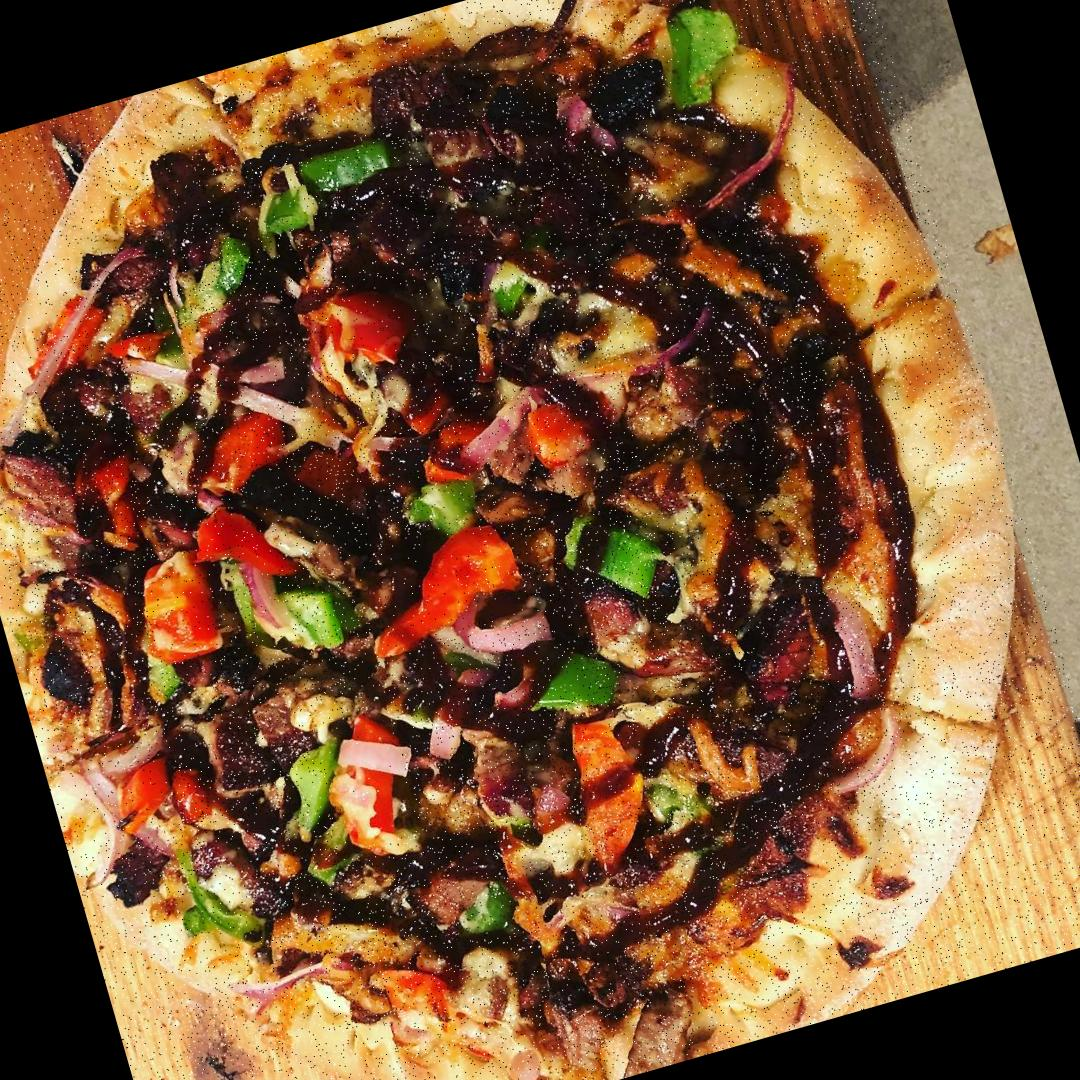Onion: (53, 762, 132, 903), (4, 447, 89, 574), (810, 704, 914, 801), (448, 383, 556, 468), (571, 329, 715, 390), (820, 581, 886, 702), (690, 132, 792, 208), (210, 342, 302, 418), (223, 951, 338, 1010), (551, 80, 622, 166), (241, 552, 298, 652), (760, 60, 815, 148), (468, 610, 558, 660), (126, 344, 188, 397), (423, 716, 469, 766)
Peppers: (353, 520, 528, 658), (563, 708, 664, 870), (314, 707, 420, 850), (551, 498, 668, 616), (648, 0, 756, 118), (191, 494, 300, 596), (172, 835, 264, 952), (136, 551, 228, 666), (11, 292, 116, 386), (251, 579, 352, 675), (160, 233, 260, 329), (187, 407, 291, 499), (324, 276, 420, 374), (525, 647, 630, 731), (296, 125, 398, 195), (379, 950, 460, 1034), (404, 466, 492, 543), (279, 748, 345, 849), (412, 410, 500, 479), (522, 397, 598, 474), (109, 756, 182, 836), (448, 878, 524, 939), (168, 760, 222, 833), (257, 184, 317, 241)
Pizza: (0, 0, 1080, 1080)
